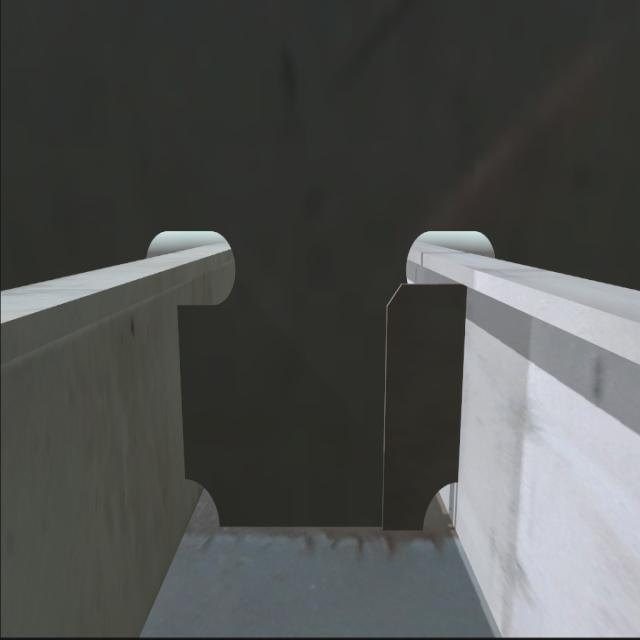fillet_hole: (418, 476, 456, 532), (183, 484, 219, 532)
fillet_yong_jeop_jang: (216, 514, 434, 532)
longi_yong_jeop_jang: (171, 300, 201, 492), (449, 282, 472, 489)
plate_CP03: (381, 278, 464, 534)
